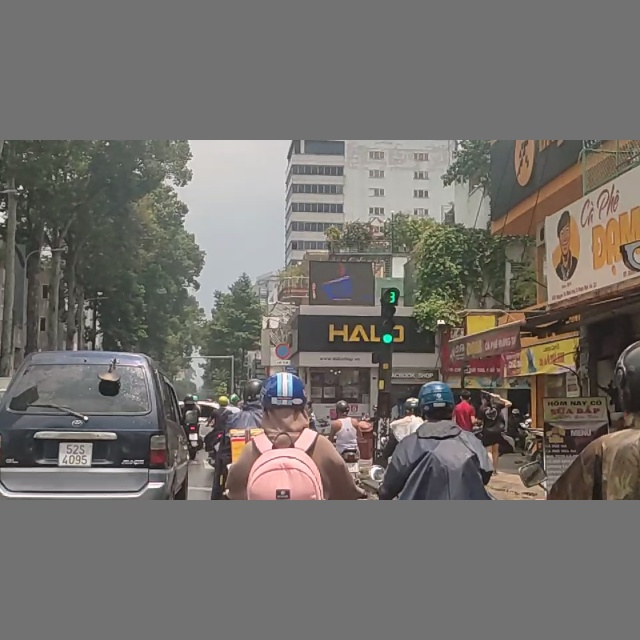P.131a: (275, 343, 292, 360)
